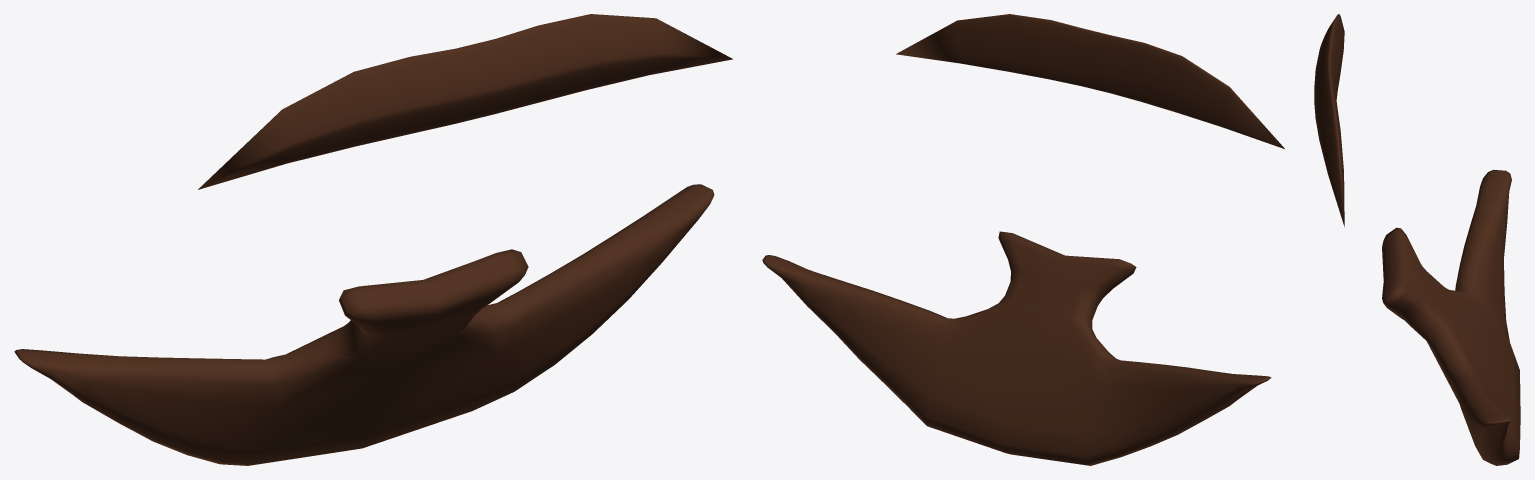
3 views of the same model, side by side, from view 1: azimuth 30°, elevation 25°; view 2: azimuth 150°, elevation 25°; view 3: azimuth 270°, elevation 25° (orthographic). The views are drawn at different scales.
Visible parts, largest first — view 1: beardMedium; view 2: beardMedium; view 3: beardMedium.
Part boxes in pixels (<box>): beardMedium: <box>14,14,732,465</box>; beardMedium: <box>762,14,1284,465</box>; beardMedium: <box>1314,14,1520,465</box>.
Size of the model in its own units: 0.2332 by 0.159 by 0.0803.
1 material, 1 textured.
